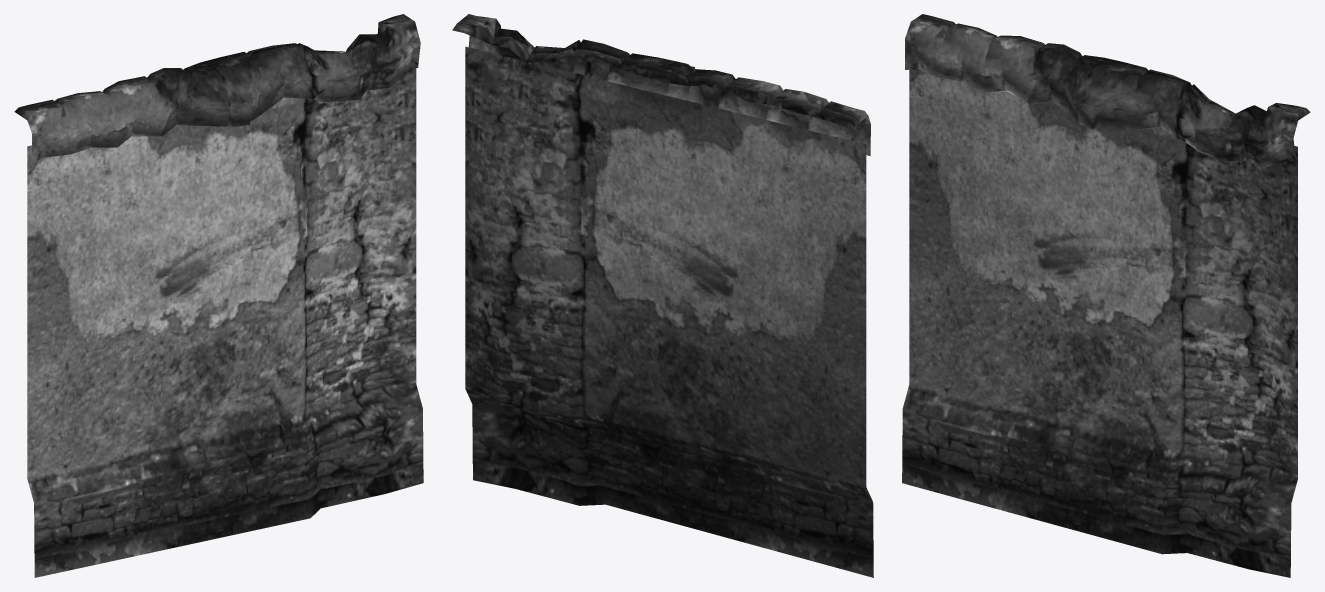
The model's file is StreetDeko_HouseWall_A.FBX.
The picture shows the model from 3 angles, left to right: view 1: azimuth 30°, elevation 25°; view 2: azimuth 150°, elevation 25°; view 3: azimuth 330°, elevation 25°; orthographic projection. The views are drawn at different scales.
Visible parts, largest first — view 1: Street_HouseWall_A; view 2: Street_HouseWall_A; view 3: Street_HouseWall_A.
Boxes of the visible parts, box(x1,y1,x2,y2) form: Street_HouseWall_A: box(14, 14, 423, 577); Street_HouseWall_A: box(452, 14, 873, 577); Street_HouseWall_A: box(902, 14, 1310, 577).
Bounding box in the file's own units: 400 × 454 × 63.13.
